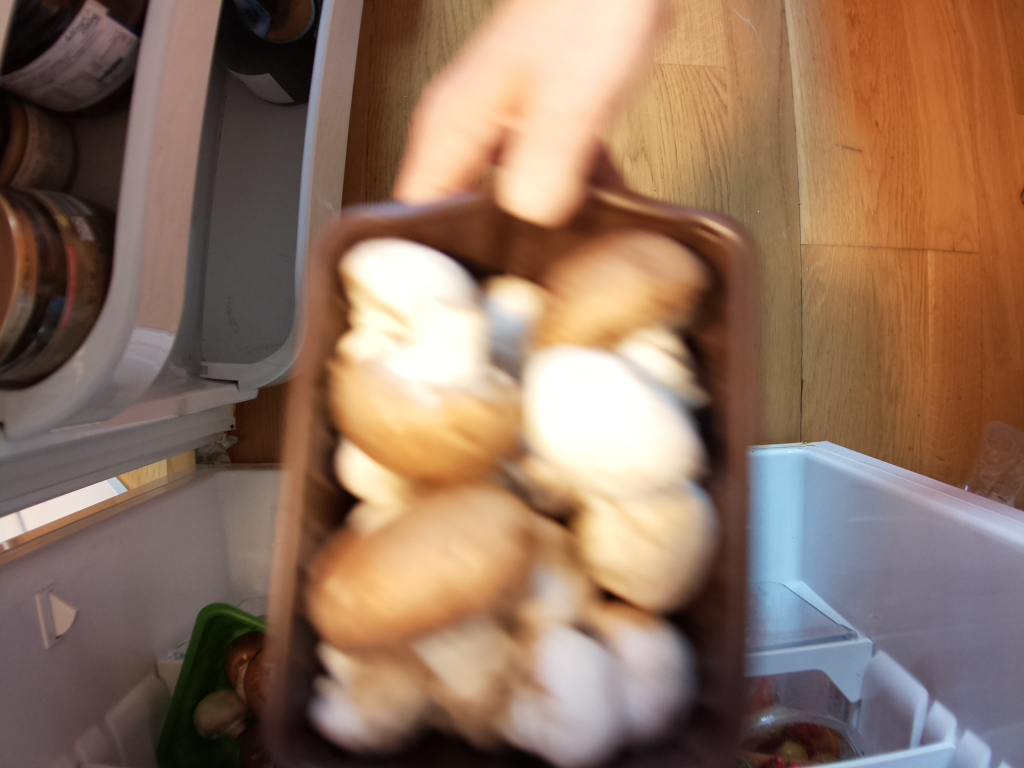mushrooms: (299, 216, 745, 768)
